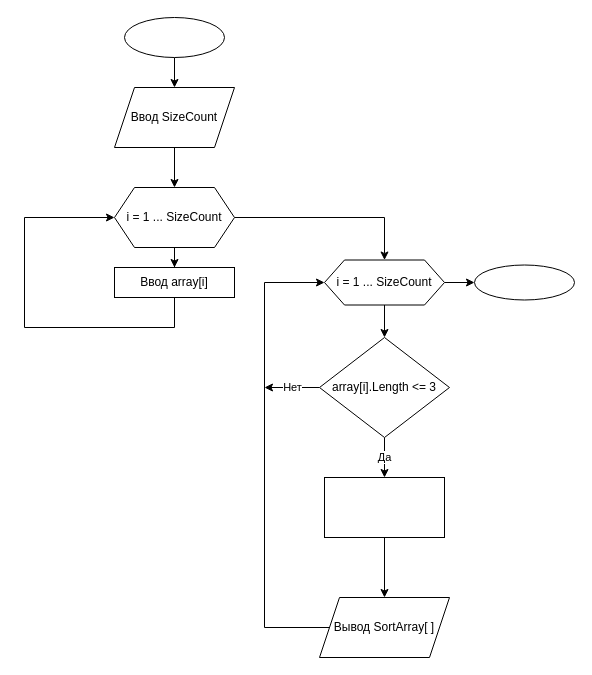
Some shapes in this 592 by 675 pixel diagram are drawn without their labels. Each missing label, with the centre of its shape:
SortArray[ ] = array[i]: point 384,507
Конец: point 524,282
Начало: point 174,37
